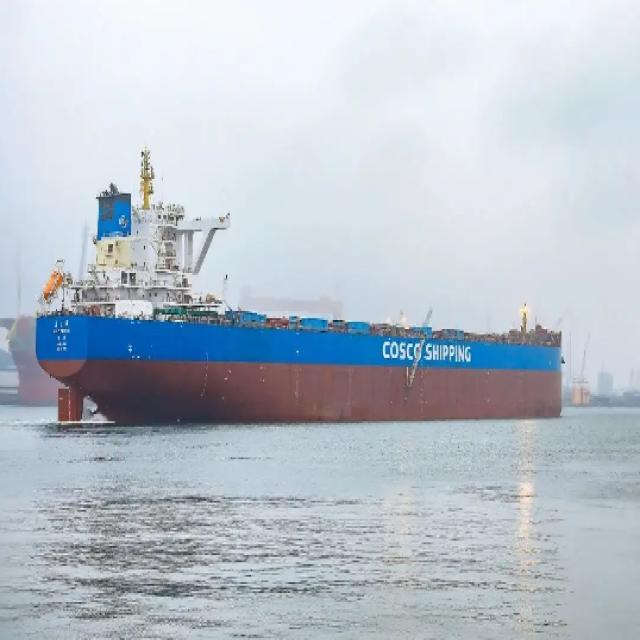cargoship: (41, 151, 566, 422)
